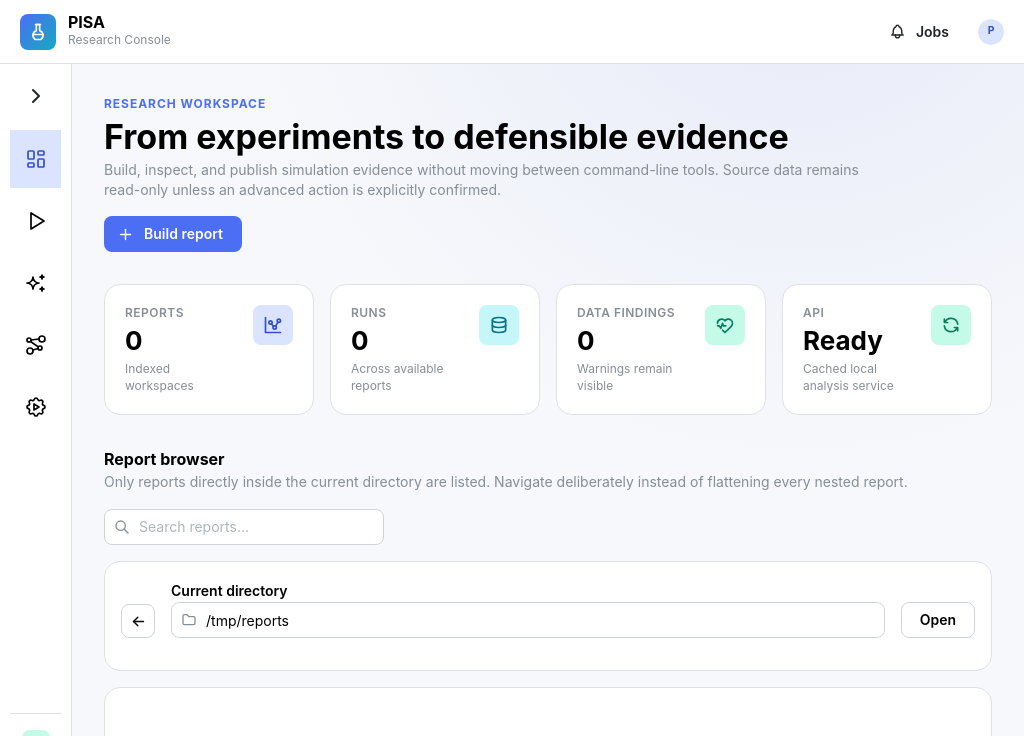
Test: PISA Research Console › separates experiment selection from the save-or-preview destination step
What coordinates should you click on to do the following:
click the button "Build report"
I would click on:
 (173, 234)
Its box is [104,216,242,252].
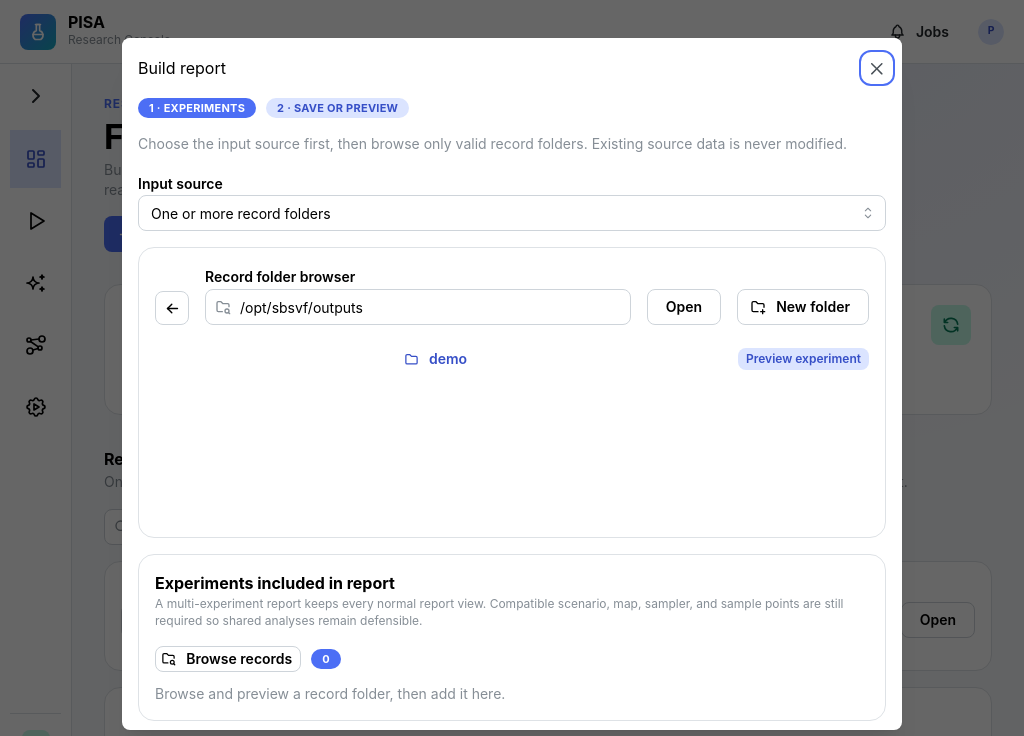
What coordinates should you click on to do the following:
click the button "Preview experiment"
I would click on:
 (804, 359)
Its box is [738,348,869,370].
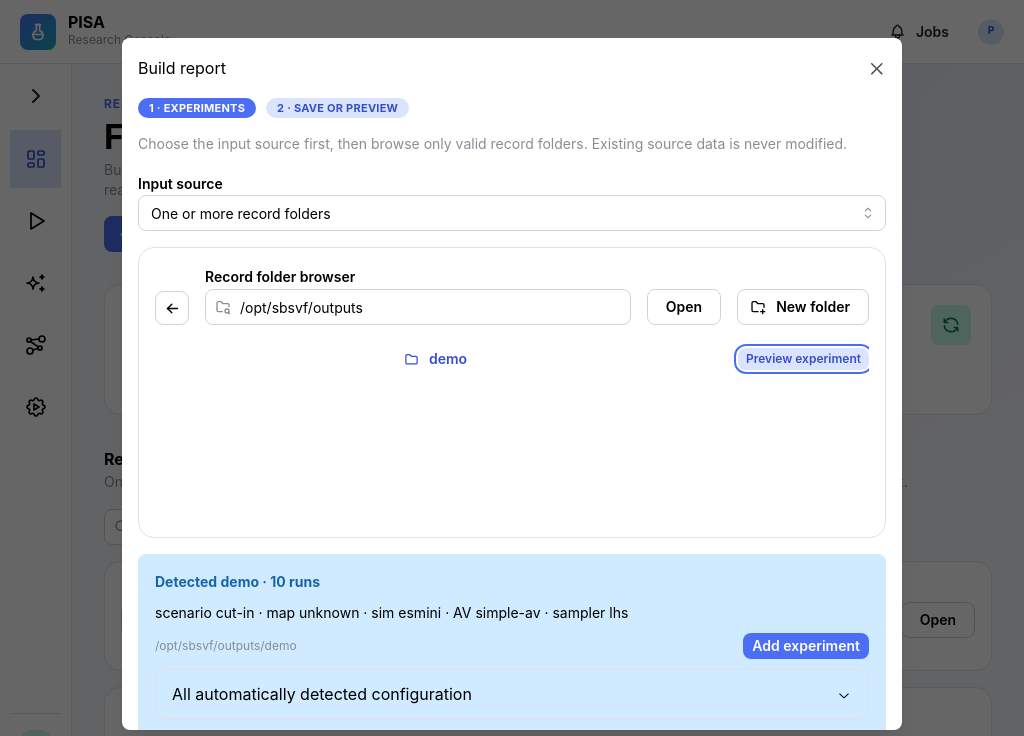
What coordinates should you click on to do the following:
click the button "Add experiment"
I would click on:
 (806, 646)
Its box is [743,633,869,659].
(page scrolled)
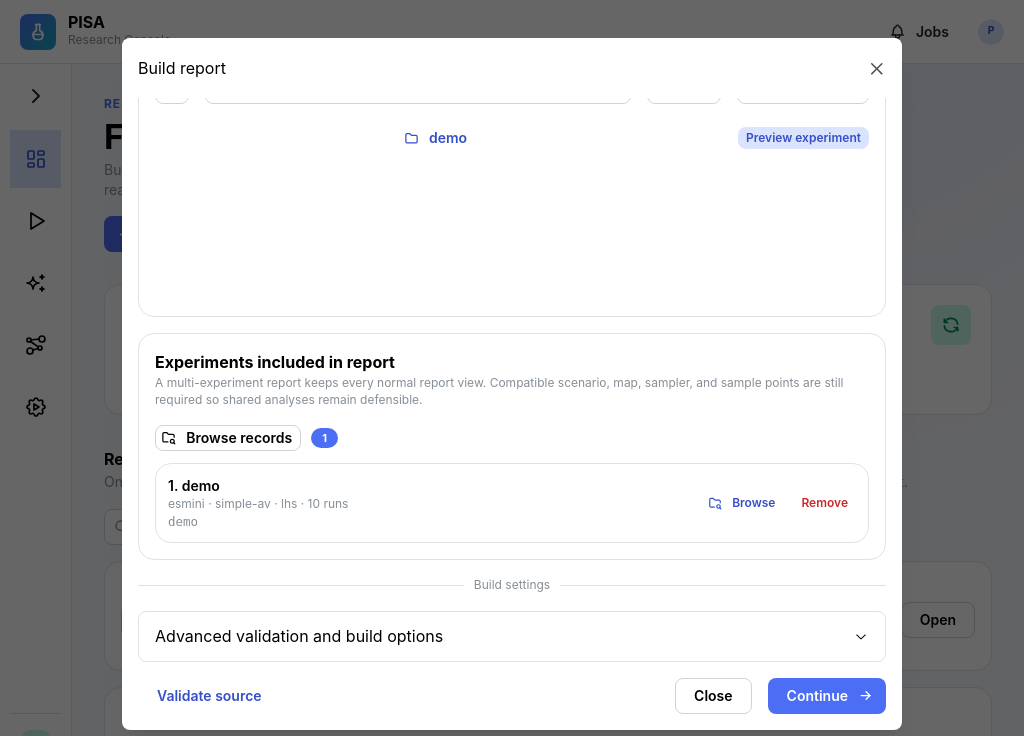
What coordinates should you click on to do the following:
click the button "Continue"
I would click on:
 (827, 696)
Its box is [768,678,886,714].
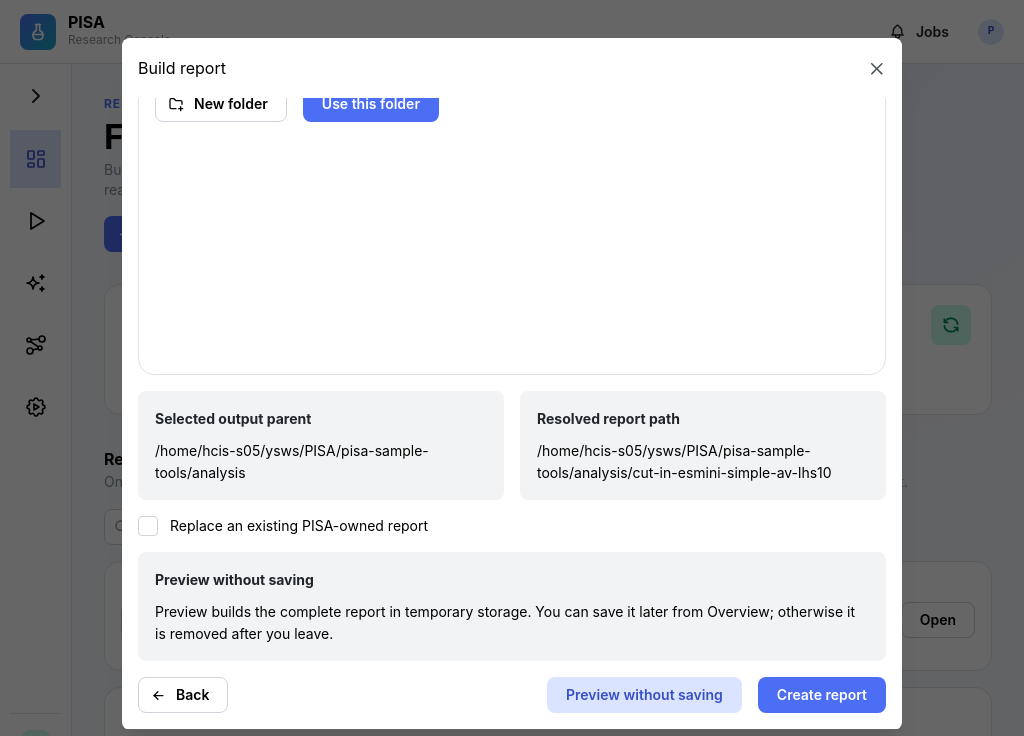
Check: the field labelled "Report destination browser" holds "/home/hcis-s05/ysws/PISA/pisa-sample-tools/analysis", box [205,38,779,70]
Check: the button "Preview without saving" is enabled, box [547,677,742,713]
Check: the button "Create report" is enabled, box [758,677,886,713]
